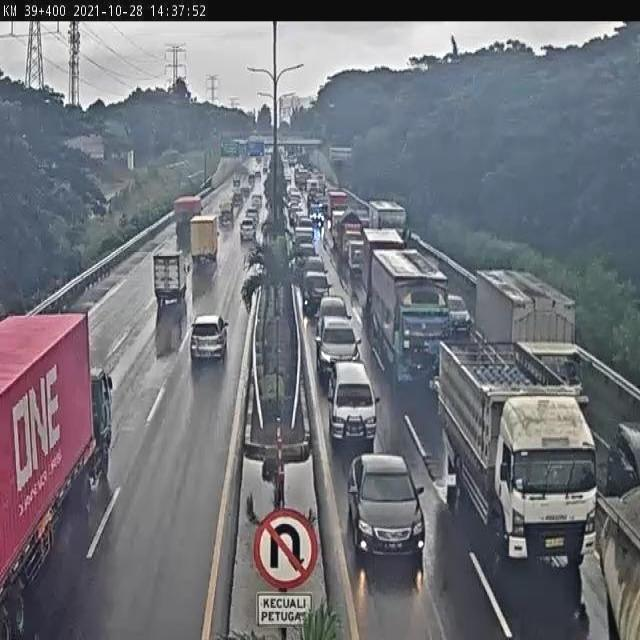Car: (347, 448, 428, 559), (316, 313, 360, 387), (190, 313, 228, 362), (240, 218, 255, 242)
Truck: (0, 306, 115, 639), (438, 343, 595, 570), (464, 266, 592, 422), (366, 248, 451, 392), (359, 227, 405, 301), (153, 250, 185, 307), (367, 198, 409, 238), (173, 195, 201, 250), (190, 214, 219, 266), (336, 208, 364, 259), (326, 190, 349, 231), (306, 178, 322, 202)
Van: (328, 362, 378, 450)
